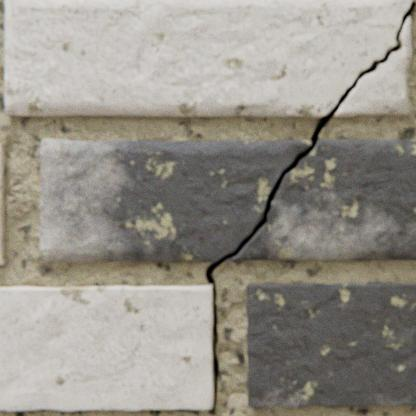brick: (0, 285, 213, 410), (246, 282, 415, 407), (0, 144, 6, 264)
broken_brick: (6, 0, 411, 117), (41, 139, 311, 261), (225, 139, 415, 261), (334, 18, 410, 117)
crack: (205, 1, 415, 414)
